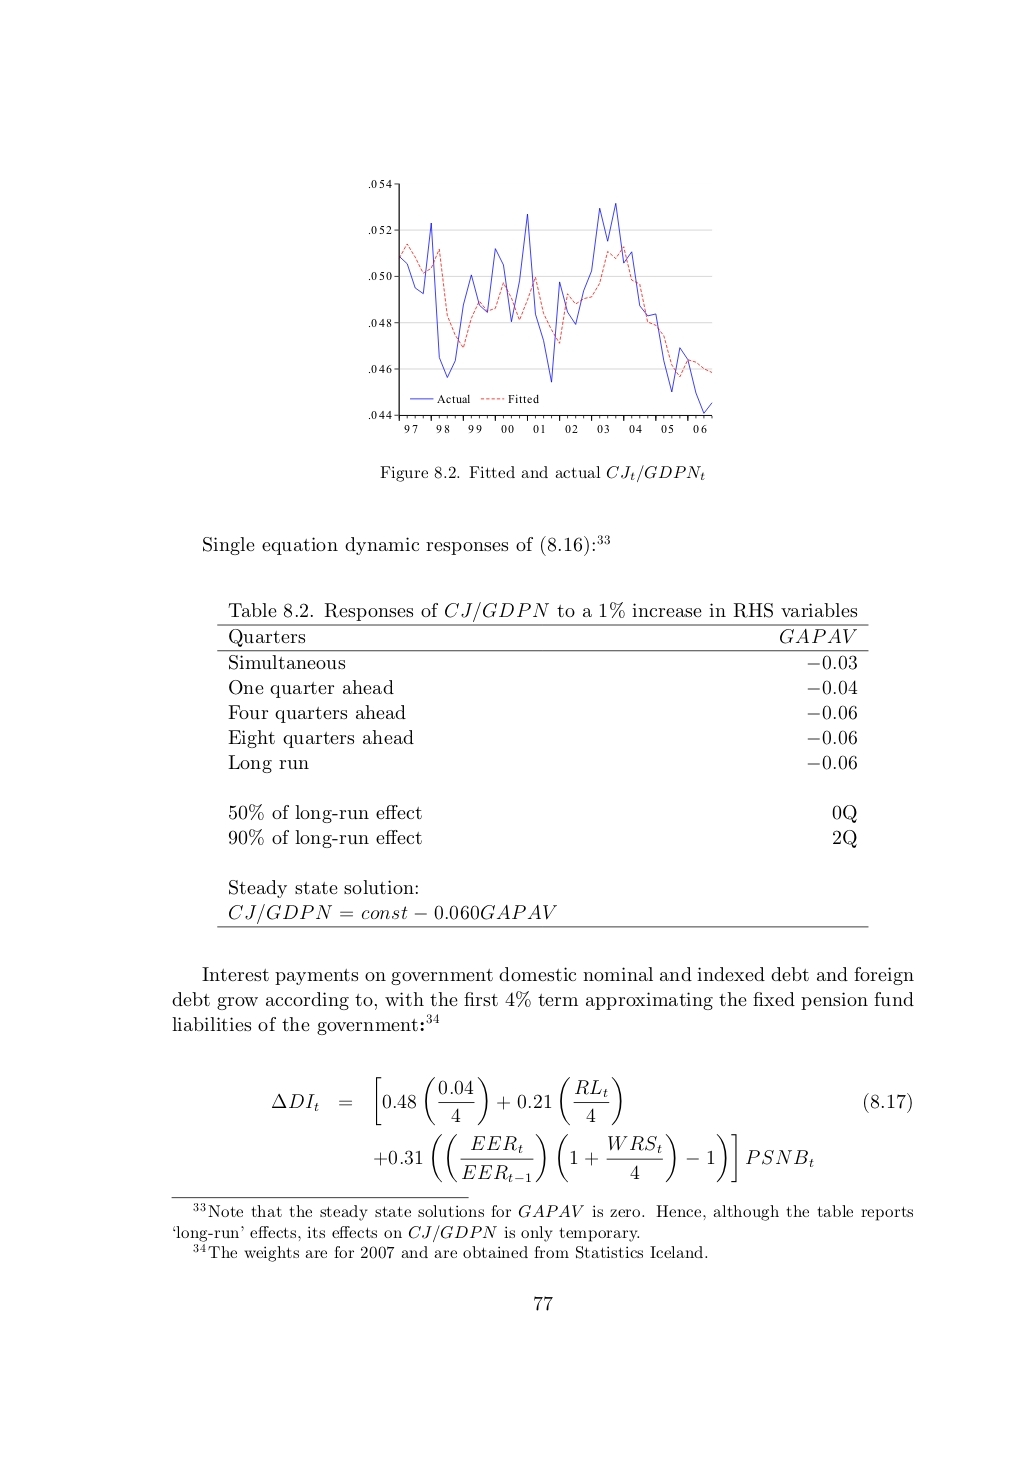Table: (217, 602, 868, 927)
figure: (369, 180, 711, 433)
formula: (273, 1075, 911, 1126), (374, 1132, 813, 1183)
